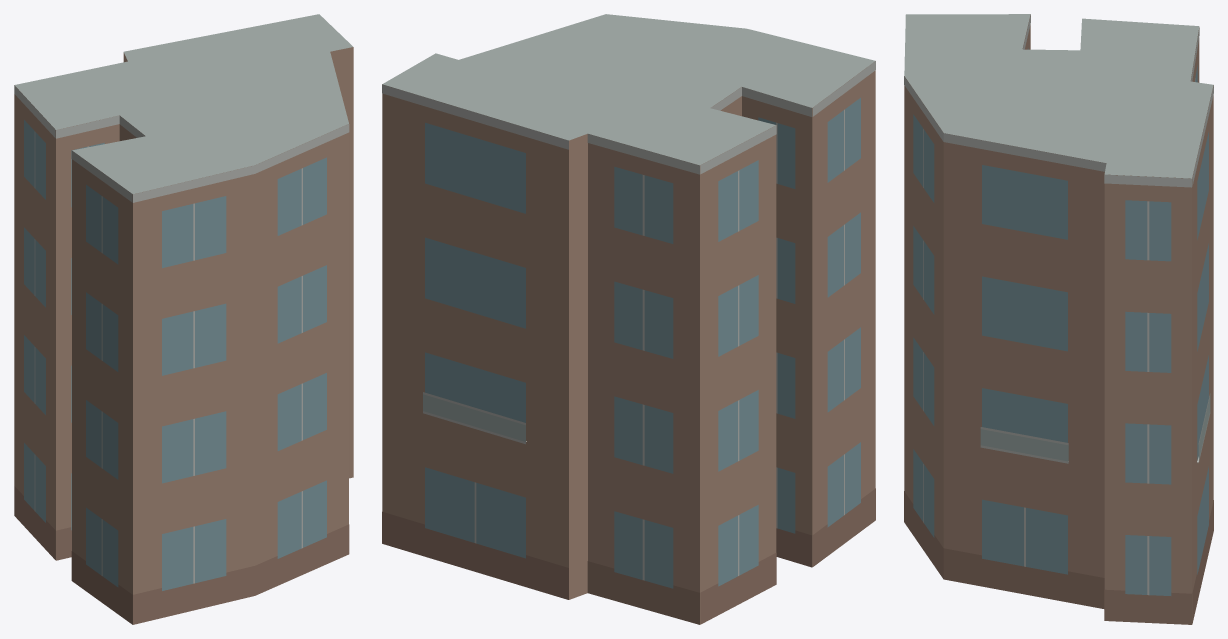
The model's file is survey-upis-32472710.glb.
The picture shows the model from 3 angles, left to right: view 1: azimuth 30°, elevation 25°; view 2: azimuth 150°, elevation 25°; view 3: azimuth 270°, elevation 25°; orthographic projection. The views are drawn at different scales.
Parts seen in each view (by area): view 1: survey-upis-32472710.tmp; view 2: survey-upis-32472710.tmp; view 3: survey-upis-32472710.tmp.
Boxes of the visible parts, x1,y1,x2,y2 form: survey-upis-32472710.tmp: (14,14,353,624); survey-upis-32472710.tmp: (382,14,875,624); survey-upis-32472710.tmp: (904,14,1213,624).
Size of the model in its own units: 9.57 by 12.1 by 7.61.
